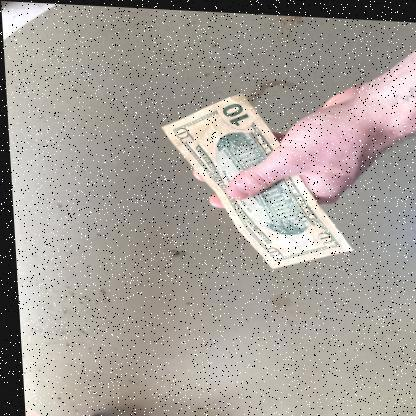dollar_back: (158, 89, 349, 265)
